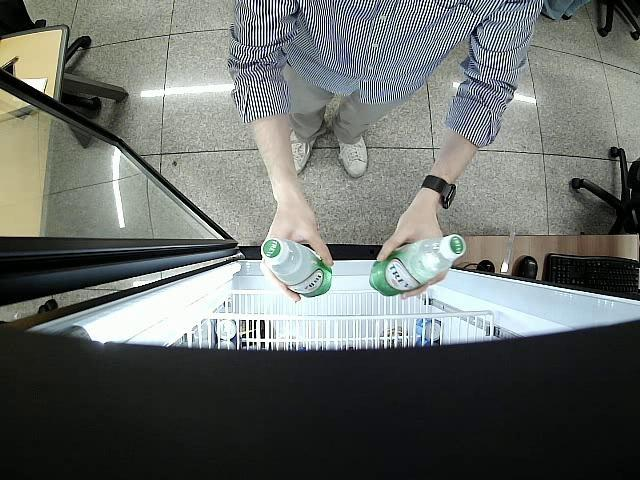18_trevi: (369, 236, 465, 296), (259, 238, 331, 298)
